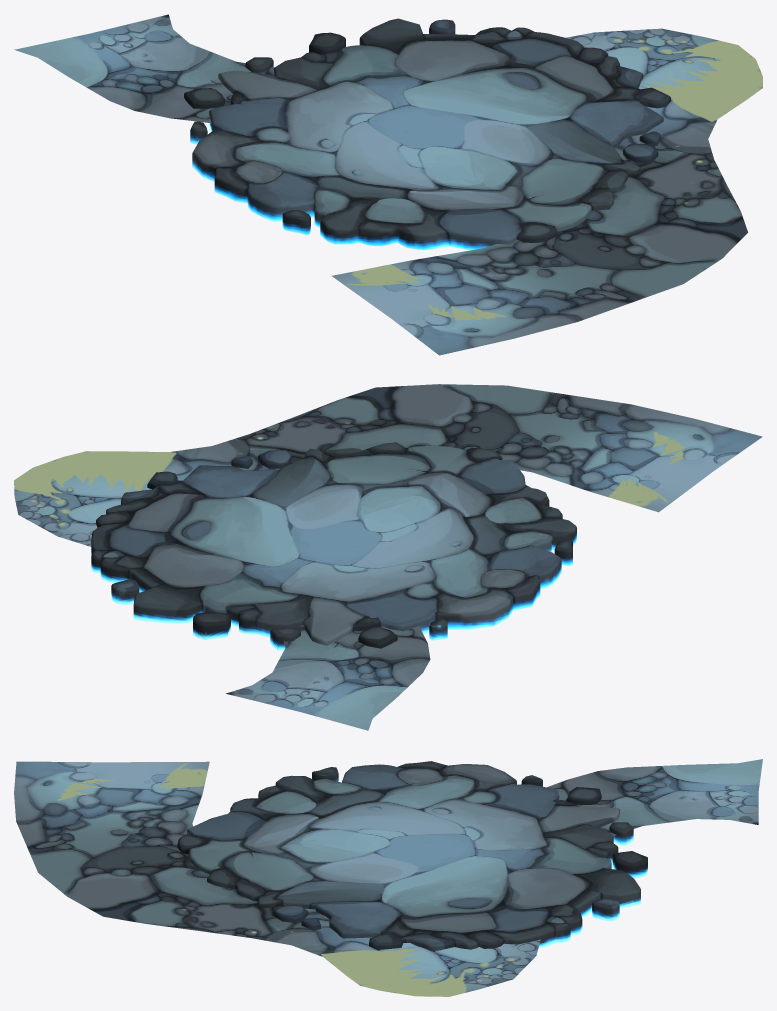
Rendered from Stone_Boss_Arena2.gltf.
The picture shows the model from 3 angles, top to bottom: view 1: azimuth 30°, elevation 25°; view 2: azimuth 150°, elevation 25°; view 3: azimuth 270°, elevation 25°; orthographic projection. The views are drawn at different scales.
Visible parts, largest first — view 1: Plane.037, EN_Arena_Floor_Plane2-water.010; view 2: Plane.037, EN_Arena_Floor_Plane2-water.010; view 3: Plane.037, EN_Arena_Floor_Plane2-water.010.
Part boxes in pixels (box(x1,y1,x2,y2)): Plane.037: box(184, 18, 670, 250); EN_Arena_Floor_Plane2-water.010: box(14, 14, 762, 355); Plane.037: box(91, 442, 576, 650); EN_Arena_Floor_Plane2-water.010: box(14, 384, 762, 730); Plane.037: box(177, 761, 647, 951); EN_Arena_Floor_Plane2-water.010: box(14, 759, 762, 996).
Bounding box in the file's own units: 40.6 × 1.09 × 54.03.
Materials: 1 (1 with a texture image).
